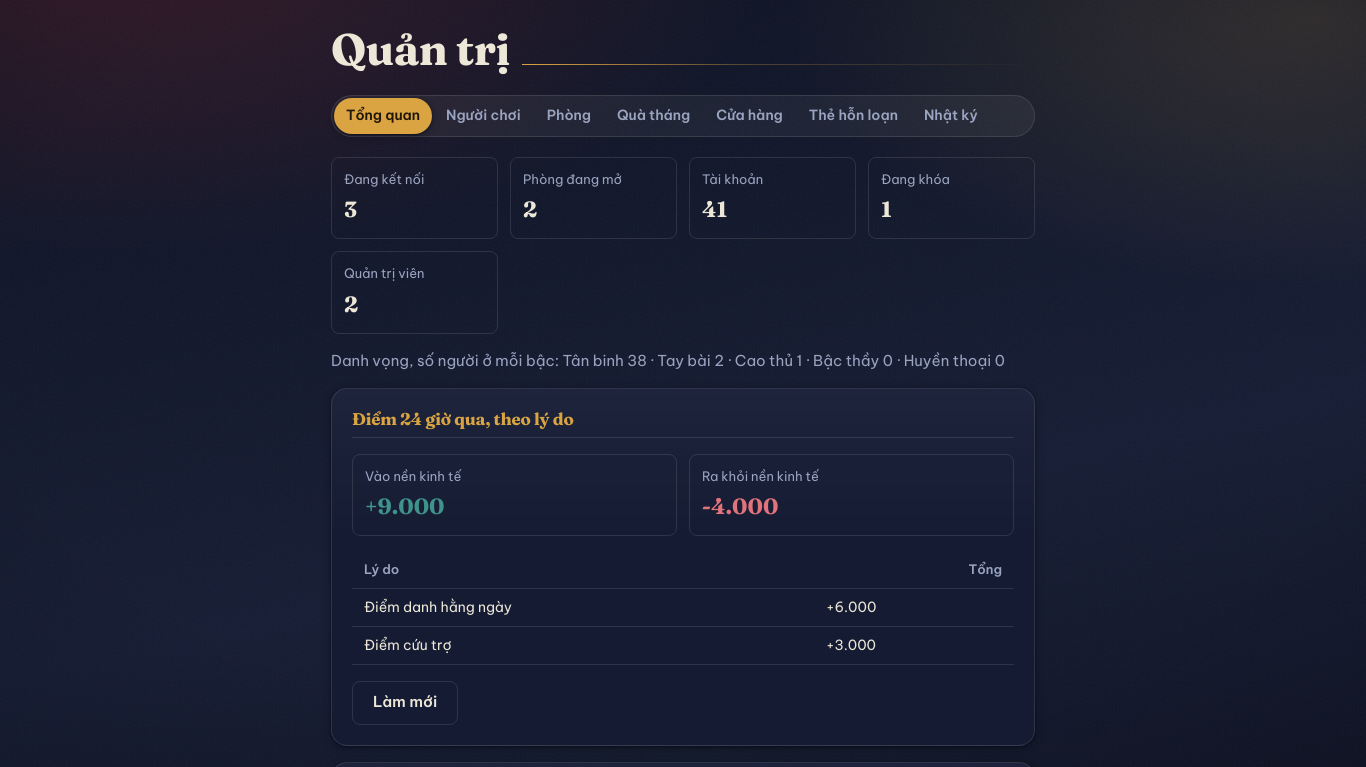
Test: GmScreen › opens the Cửa hàng tab on one read of the shop settings
Expected: the text "41" is shown, [702,195,727,223]
Step 1. Click the button "Cửa hàng" → (750, 116), box [704,98,795,134]
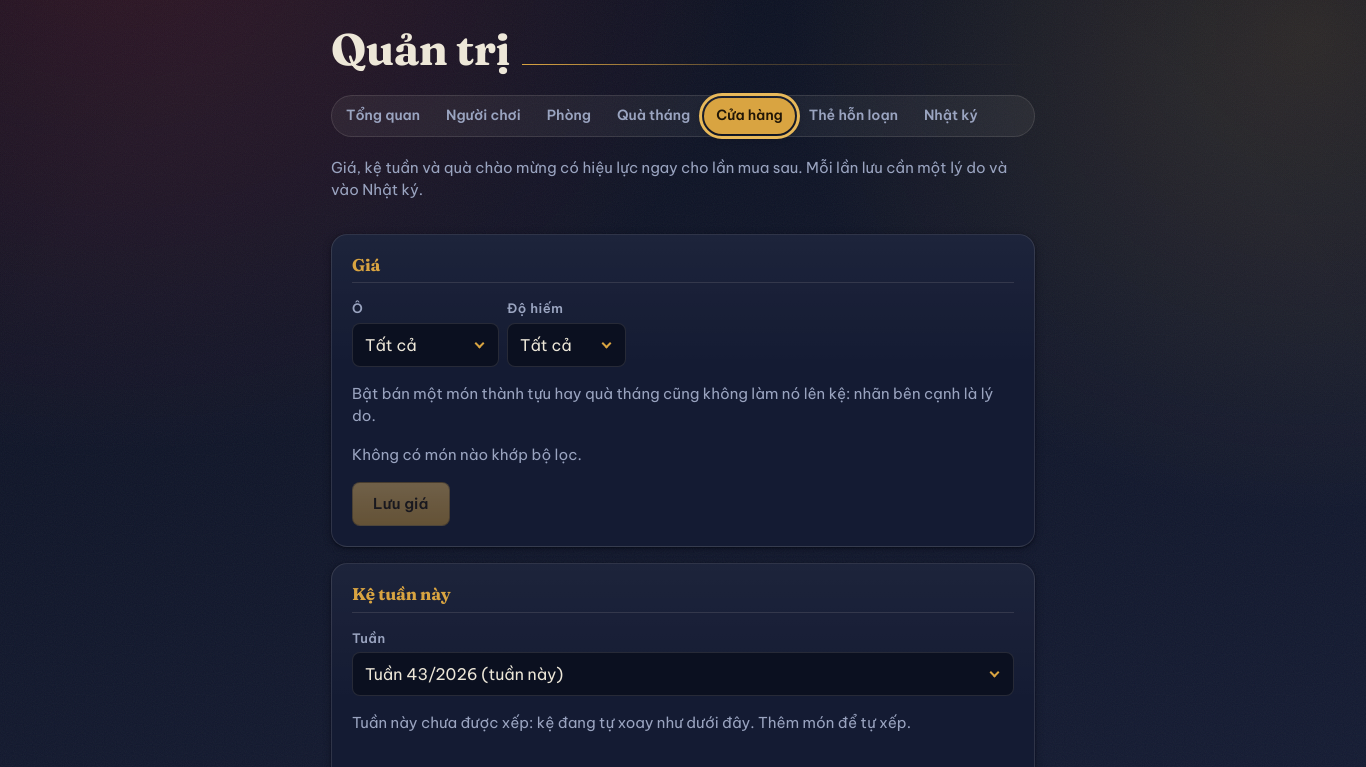
Result: the heading "Giá" is shown at [352,255,1014,283]
